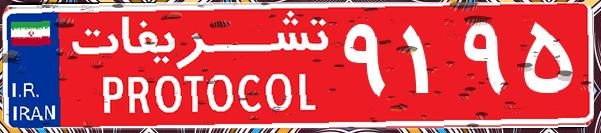1: (400, 20, 460, 115)
5: (520, 20, 580, 115)
9: (340, 20, 400, 115), (460, 20, 520, 115)
تشریفات: (60, 8, 340, 125)
